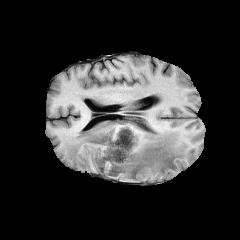glioma: (62, 120, 187, 179)
